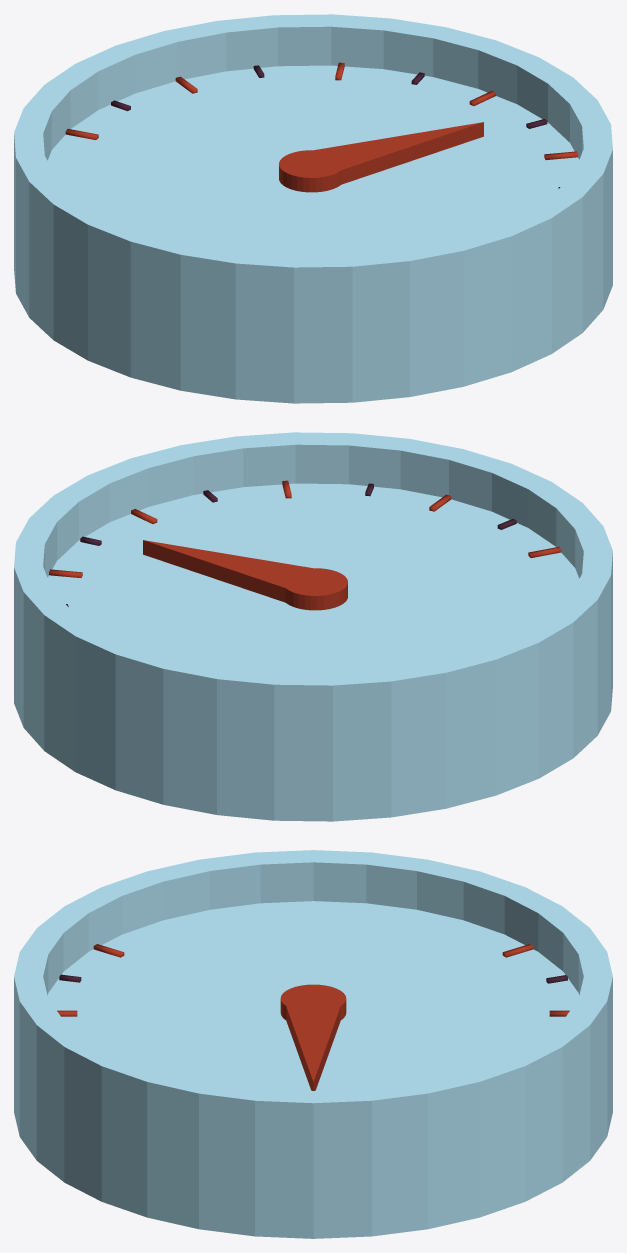
Rendered from Gauge.fbx.
The picture shows the model from 3 angles, top to bottom: view 1: azimuth 30°, elevation 25°; view 2: azimuth 150°, elevation 25°; view 3: azimuth 270°, elevation 25°; orthographic projection.
Visible parts, largest first — view 1: Body, Needle, Big_cur; view 2: Body, Needle, Big_cur; view 3: Body, Needle, Big_cur.
Part boxes in pixels (<box>): Body: <box>14,14,612,403</box>; Needle: <box>279,122,483,192</box>; Big_cur: <box>65,62,577,159</box>; Body: <box>14,432,612,821</box>; Needle: <box>143,540,347,610</box>; Big_cur: <box>49,480,561,577</box>; Body: <box>14,850,612,1238</box>; Needle: <box>280,984,346,1090</box>; Big_cur: <box>57,944,569,1016</box>.
Bounding box in the file's own units: 200 × 50 × 200.
